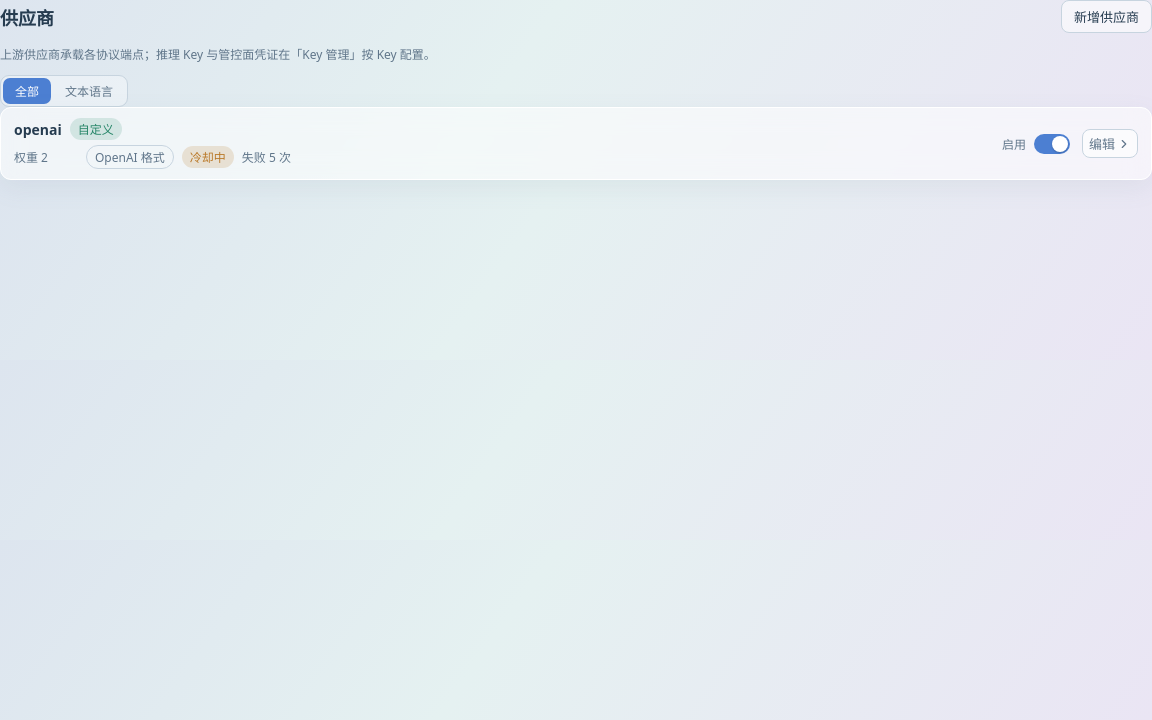
ProvidersPanel（编辑整页，reference） › aggregates key health (failures / cooling) into the row and edit page (#21)
The image size is (1152, 720).
Expected: the text "openai" shows "失败 5 次", [242,149,291,166]
Expected: the text "openai" shows "冷却中", [190,149,226,166]
Click the button "编辑". click: [1110, 144]
box: [1082,129,1138,158]
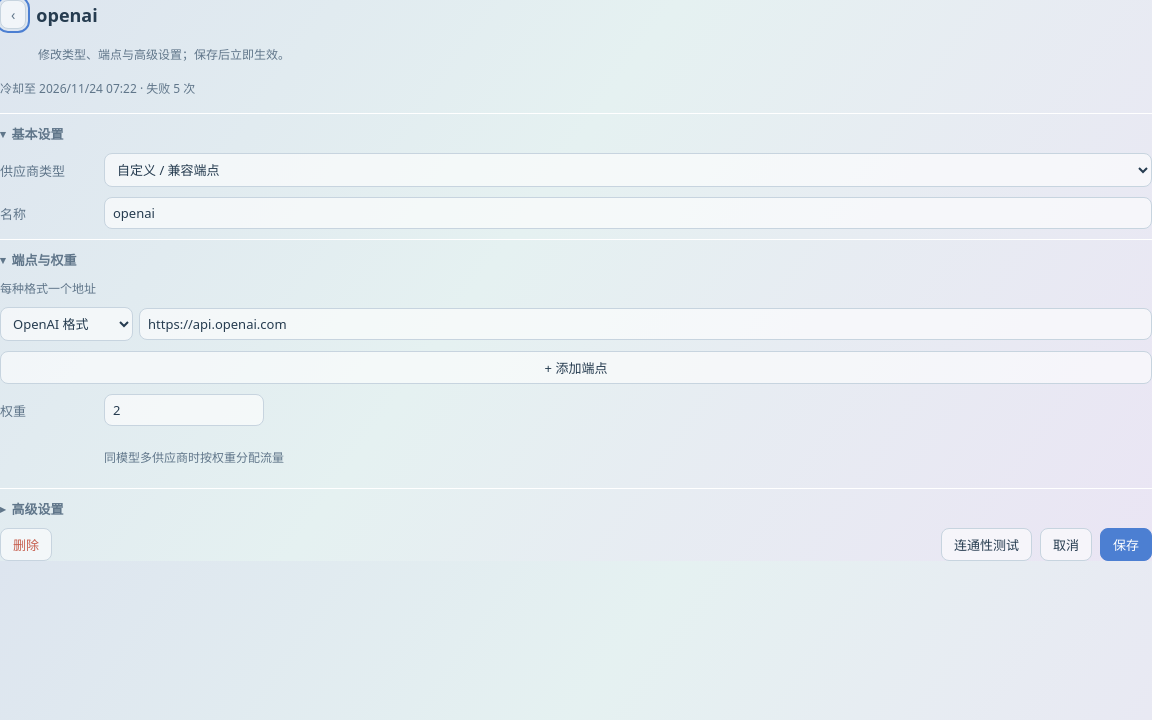
Expected: the element "openai" shows "冷却至", [0,80,137,97]
Expected: the element "openai" shows "失败 5 次", [146,80,195,97]
